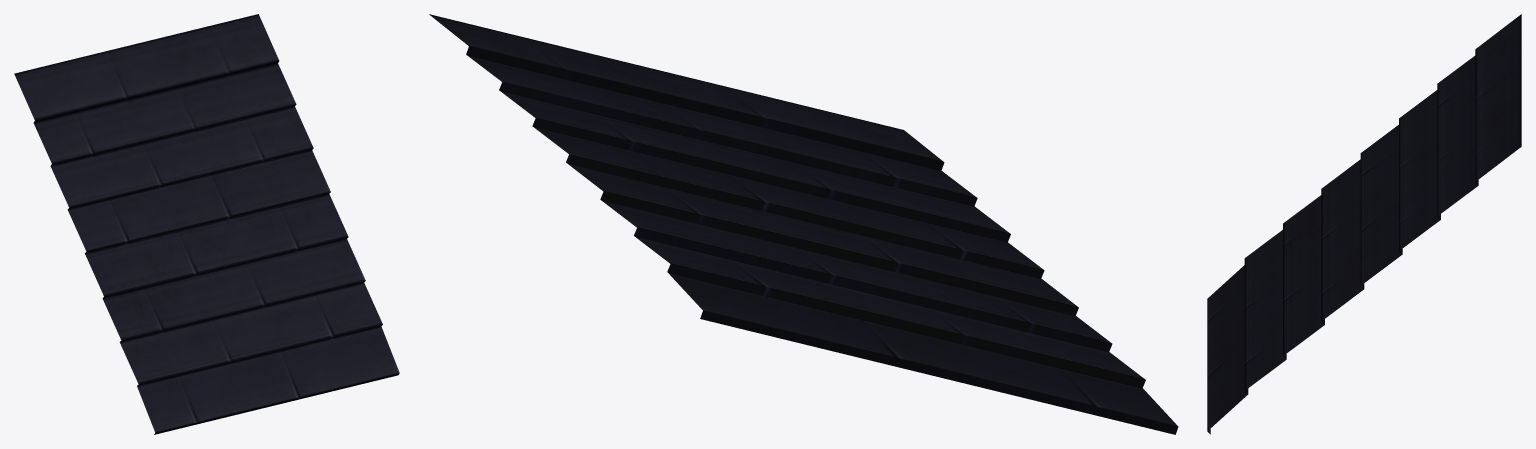
File: Roof_TWO_BY_TWO.fbx
3 views of the same model, side by side, from view 1: azimuth 30°, elevation 25°; view 2: azimuth 150°, elevation 25°; view 3: azimuth 270°, elevation 25° (orthographic). The views are drawn at different scales.
Visible parts, largest first — view 1: Roof_TWO_BY_TWO; view 2: Roof_TWO_BY_TWO; view 3: Roof_TWO_BY_TWO.
Boxes of the visible parts, x1,y1,x2,y2 form: Roof_TWO_BY_TWO: [14, 14, 399, 434]; Roof_TWO_BY_TWO: [429, 14, 1178, 434]; Roof_TWO_BY_TWO: [1207, 14, 1521, 434].
Bounding box in the file's own units: 2 × 2.02 × 2.
